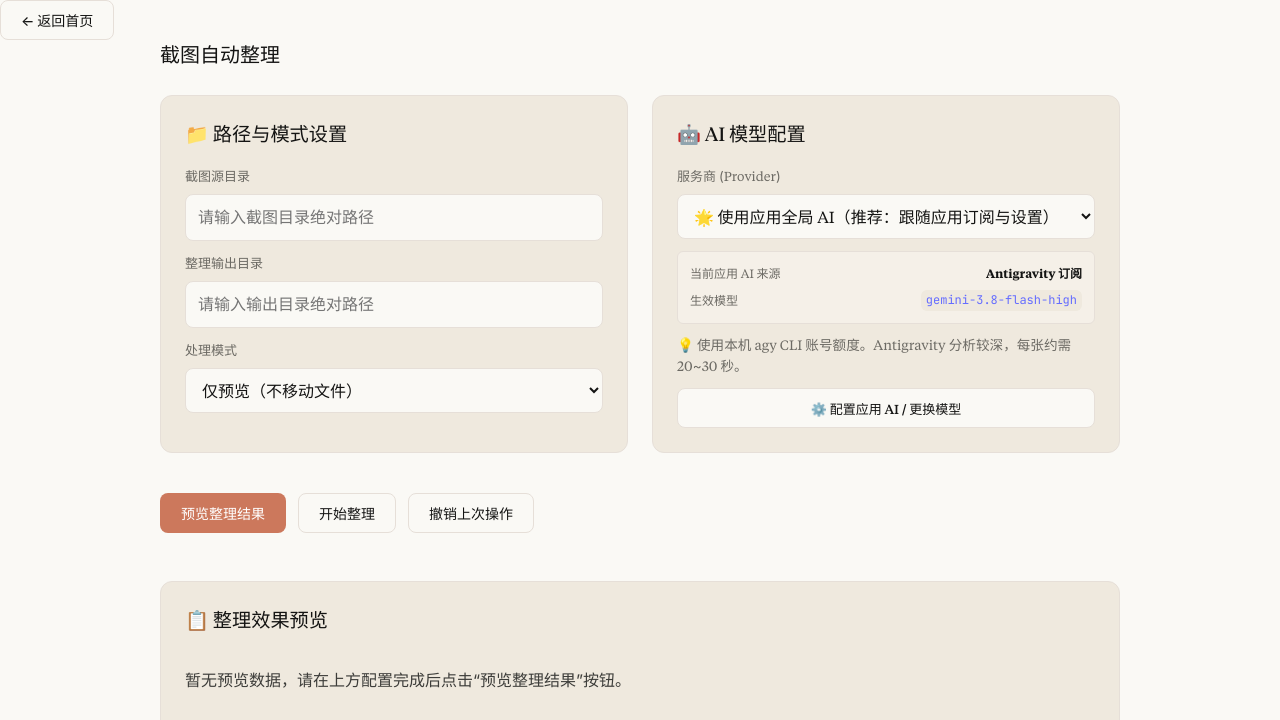
it: ScreenshotOrganizerPanel › renders app AI settings status and opens the settings modal
Check: the text "Antigravity 订阅" is shown, box [986,264,1082,282]
Check: the text "gemini-3.8-flash-high" is shown, box [921,290,1082,311]
Click the button "⚙️ 配置应用 AI / 更换模型".
click(886, 408)  # box [677,388,1095,428]
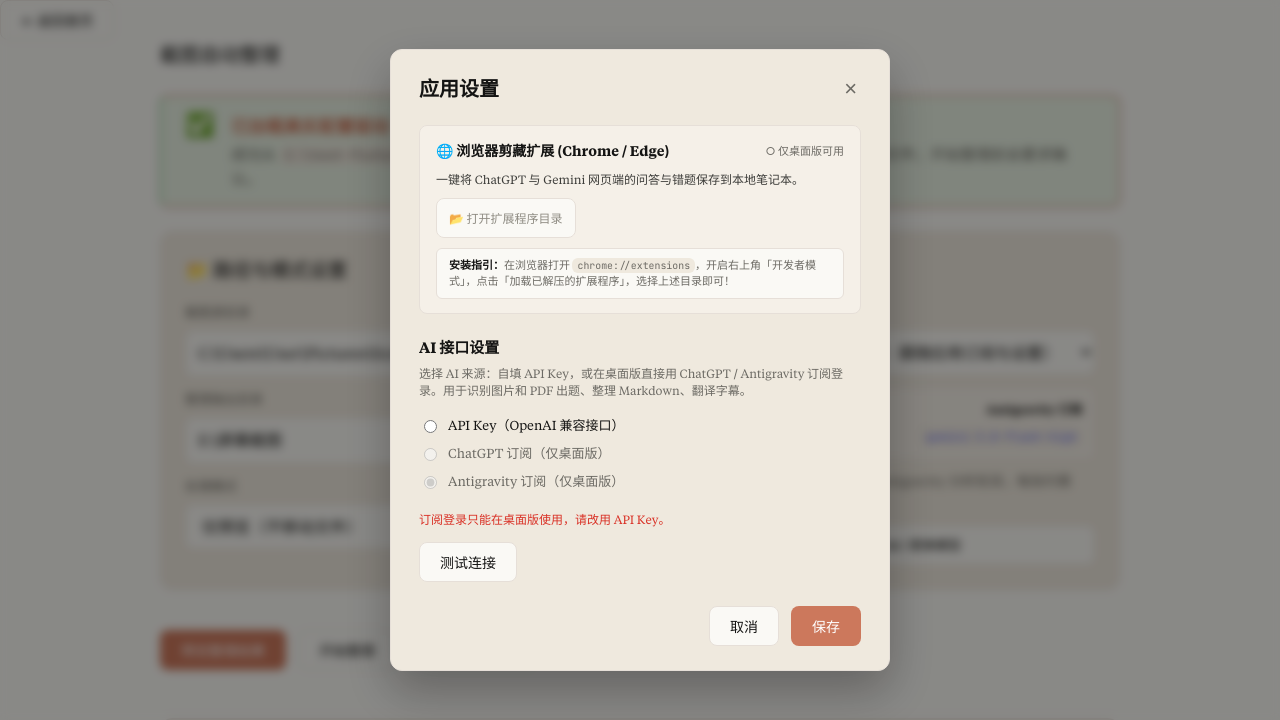
Check: the heading "应用设置" is shown, box [419,74,499,105]
